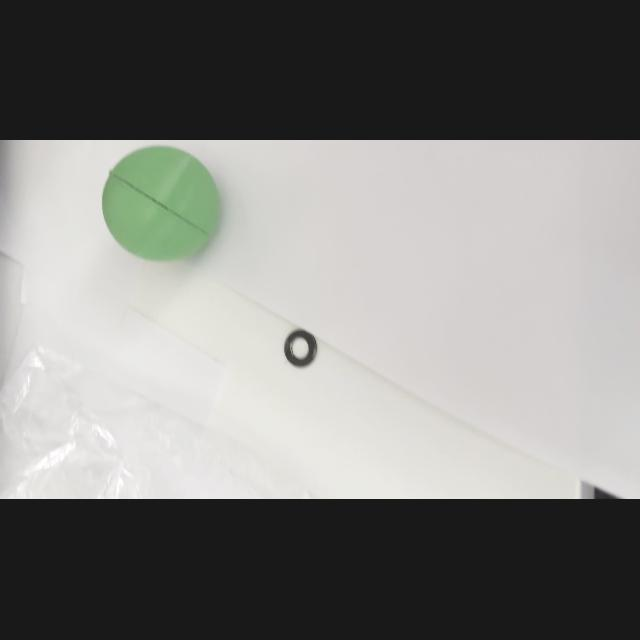objects: (98, 142, 226, 264)
